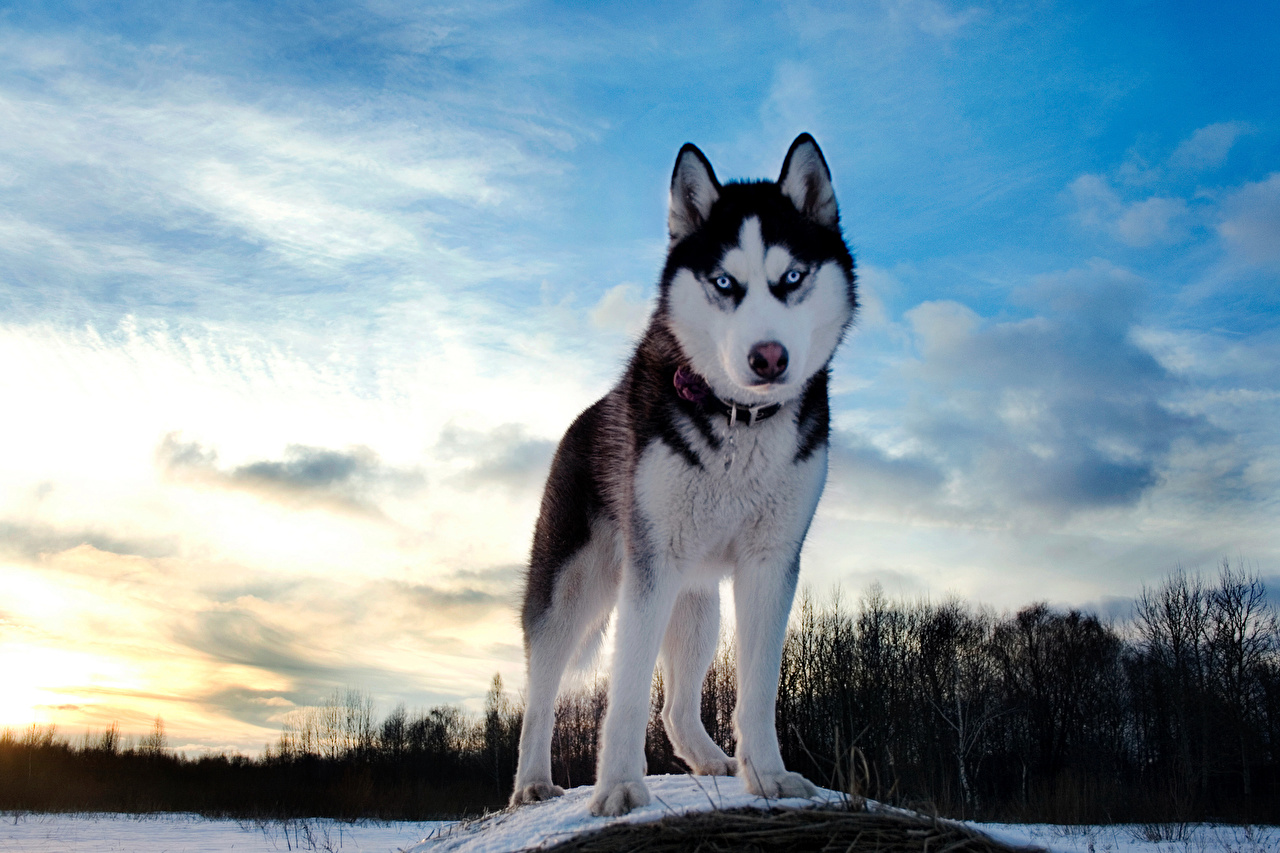husky: (512, 54, 876, 821)
